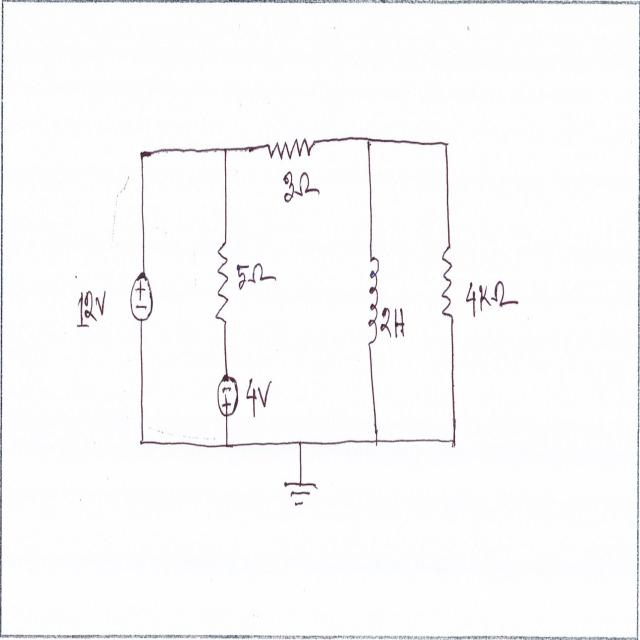ground: (281, 475, 321, 514)
inductor: (364, 253, 381, 348)
resistor: (211, 239, 232, 327), (266, 134, 316, 164), (441, 242, 457, 323)
voltage_source: (214, 366, 240, 422), (130, 272, 154, 326)
